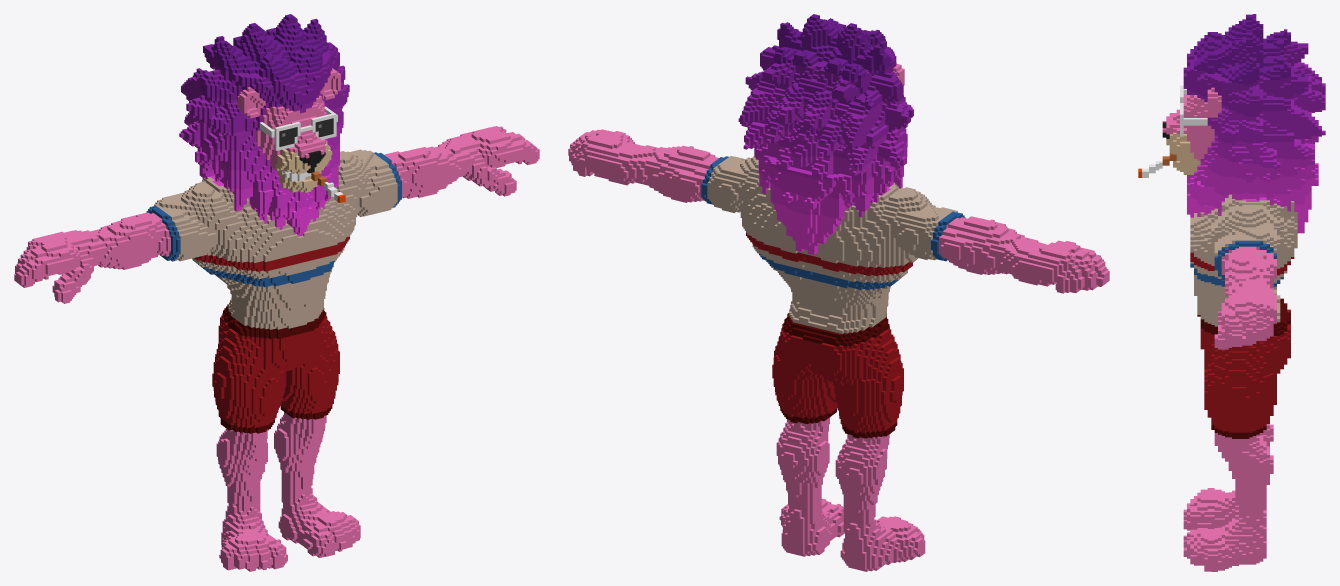
Rendered from 435-DJdhet-n.glb.
The picture shows the model from 3 angles, left to right: view 1: azimuth 30°, elevation 25°; view 2: azimuth 150°, elevation 25°; view 3: azimuth 270°, elevation 25°; orthographic projection. The views are drawn at different scales.
Visible parts, largest first — view 1: cigarette; view 2: cigarette; view 3: cigarette.
Boxes of the visible parts, box(x1,y1,x2,y2) form: cigarette: box(14, 14, 539, 571); cigarette: box(568, 14, 1109, 571); cigarette: box(1138, 14, 1325, 571).
Size of the model in its own units: 17.2 by 16.5 by 5.4.
5 materials, 5 textured.
